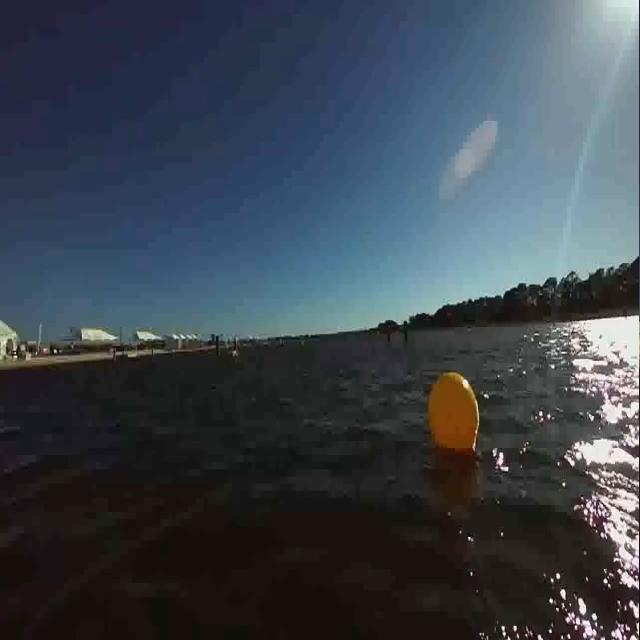yellow-buoy: (427, 370, 481, 457)
